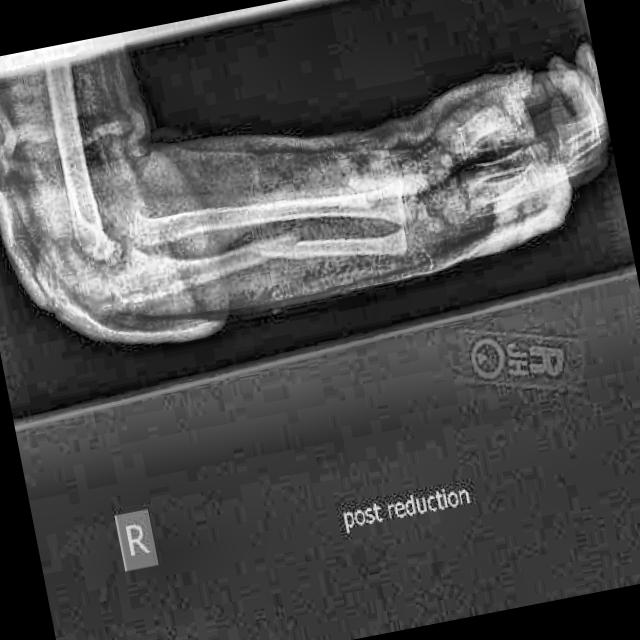forearm fracture: (237, 206, 339, 295)
